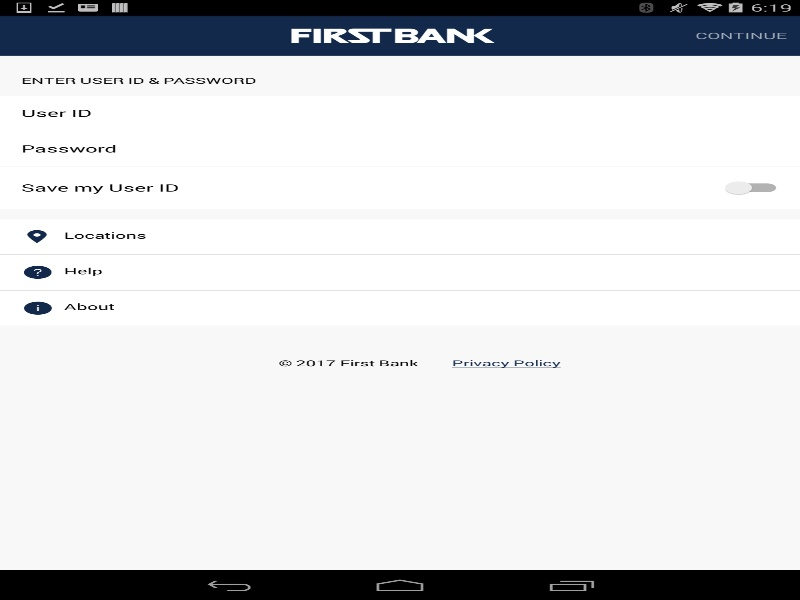Button: (695, 15, 786, 55)
Input: (0, 131, 720, 165), (0, 96, 720, 129)
